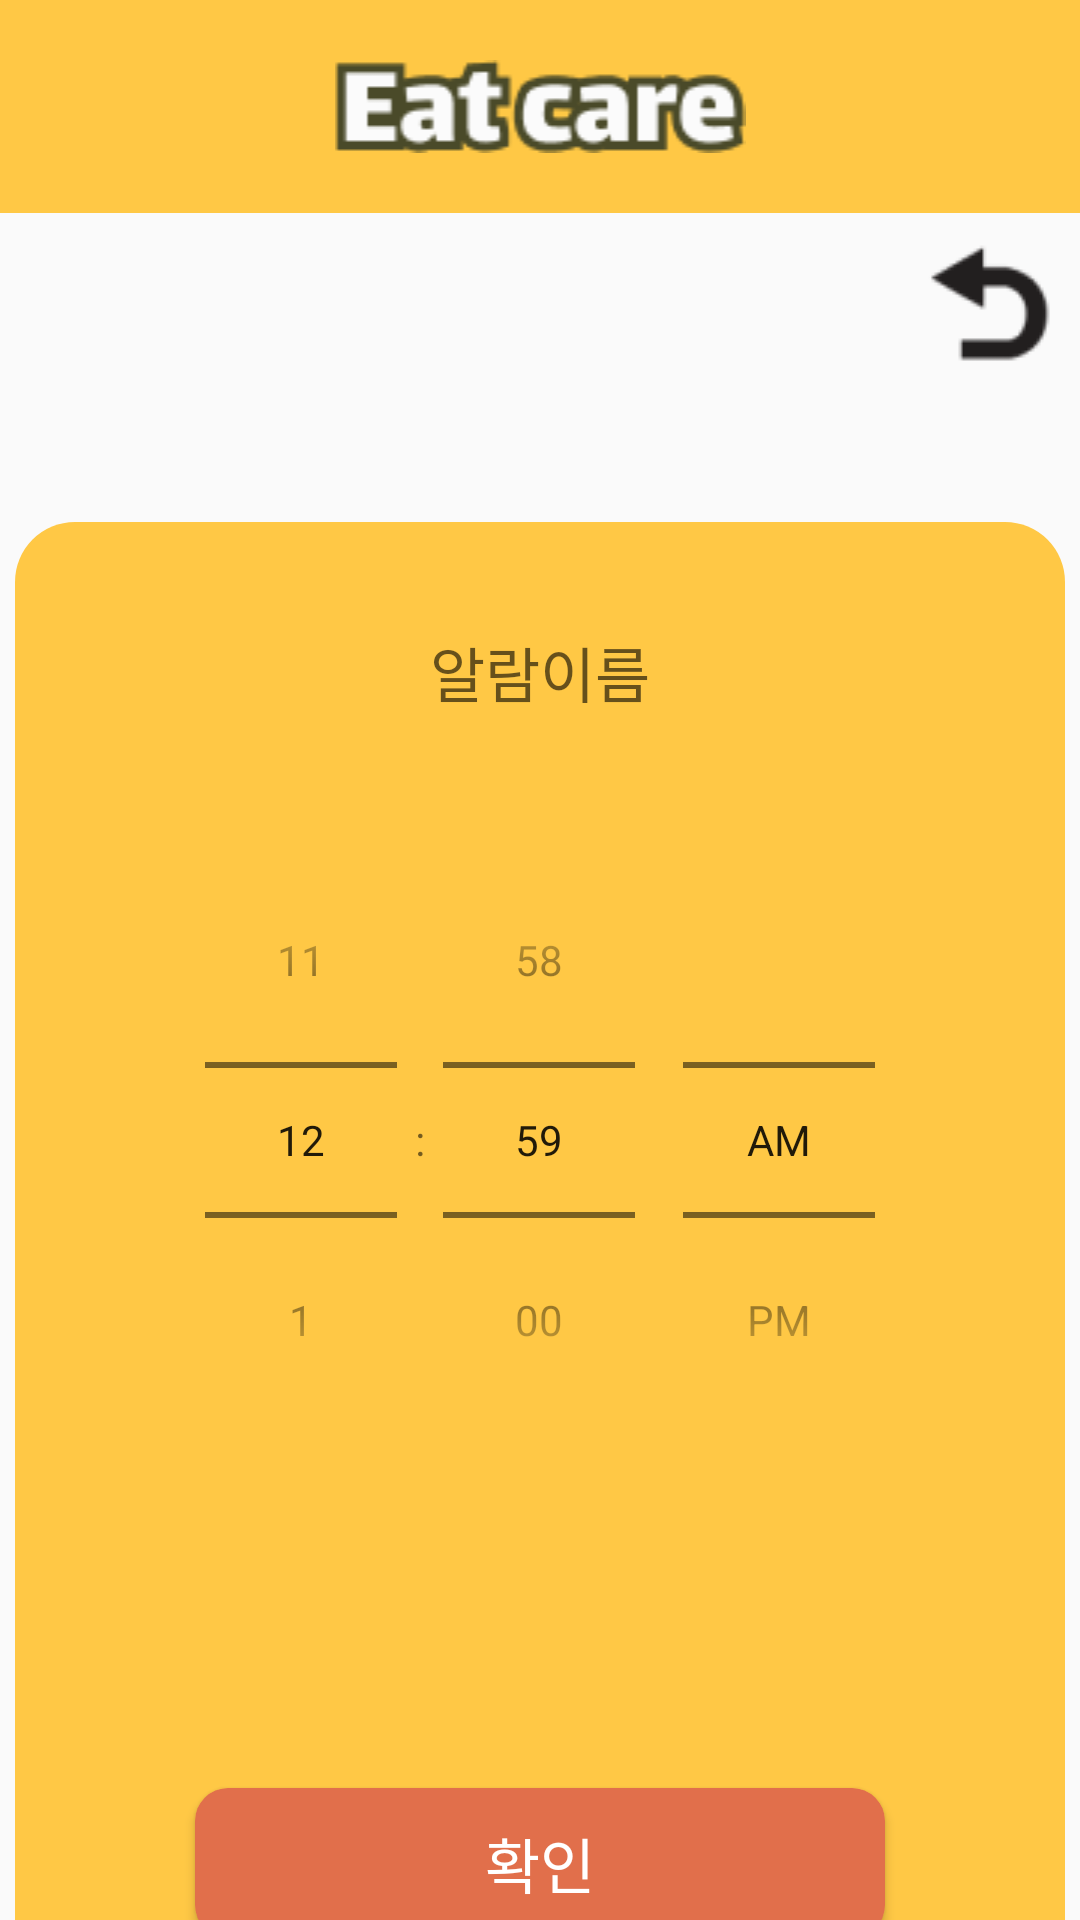

Screen size 1080px×1920px. Icon name, then its center in pixels as point (x, y):
back: point (990, 304)
